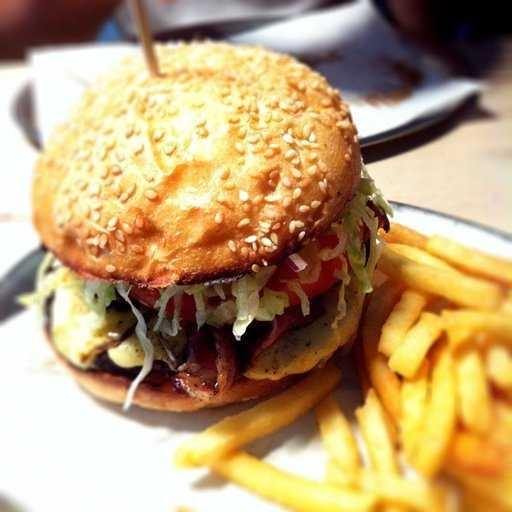hamburger: (53, 33, 380, 420)
